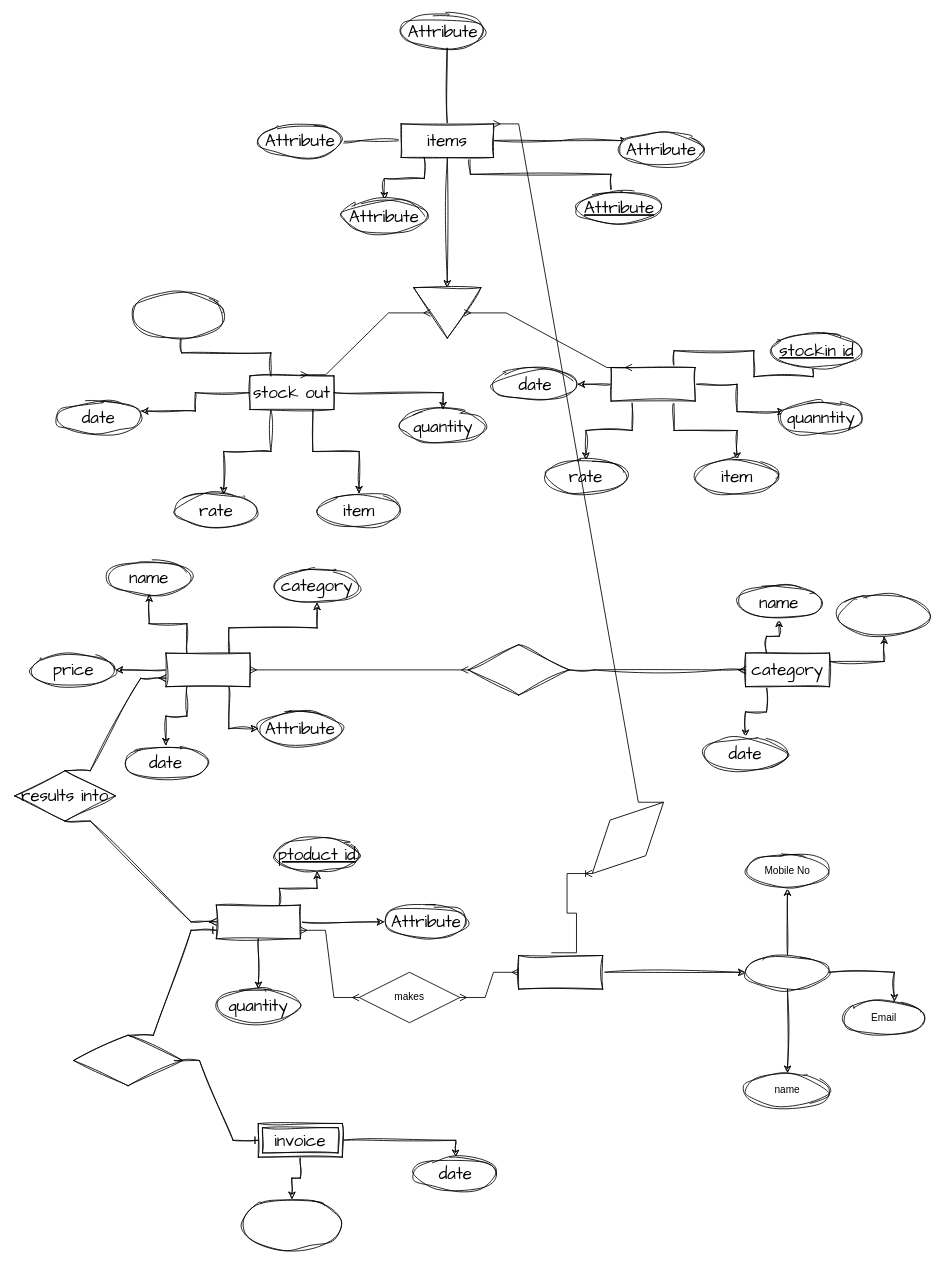
This 945x1264 diagram has some shape labels left out. Each missing label, with the centre of its shape:
"category id" goes at [883,614].
"customer name" goes at [291,1224].
"edit" goes at [447,312].
"gives" goes at [128,1060].
"keeps" goes at [627,837].
"orders" goes at [257,921].
"product" goes at [207,669].
"specifies" goes at [518,669].
"stock in" goes at [652,384].
"stockout id" goes at [178,314].
"user" goes at [560,972].
"user info" goes at [787,972].
